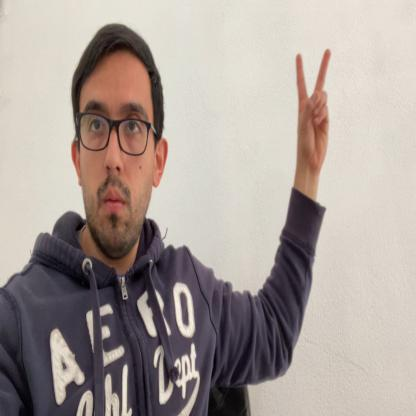V: (295, 48, 333, 174)
